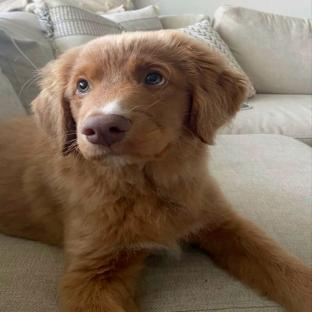Animal: (0, 30, 312, 312)
